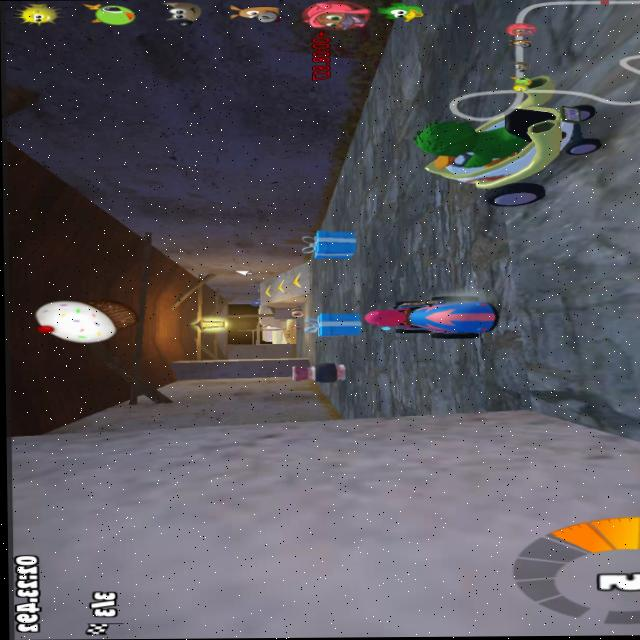bonus: (301, 310, 366, 342), (304, 227, 362, 261)
enemy_kart: (411, 88, 597, 210)
player_kart: (367, 292, 504, 343)
power_up: (285, 267, 310, 288), (258, 282, 279, 298)
